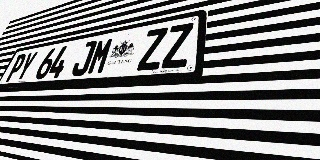4: (46, 45, 73, 79)
6: (33, 47, 59, 80)
J: (70, 40, 98, 77)
M: (86, 37, 115, 75)
P: (4, 53, 28, 82)
Y: (14, 51, 39, 81)
Z: (161, 22, 194, 69), (137, 27, 168, 71)
